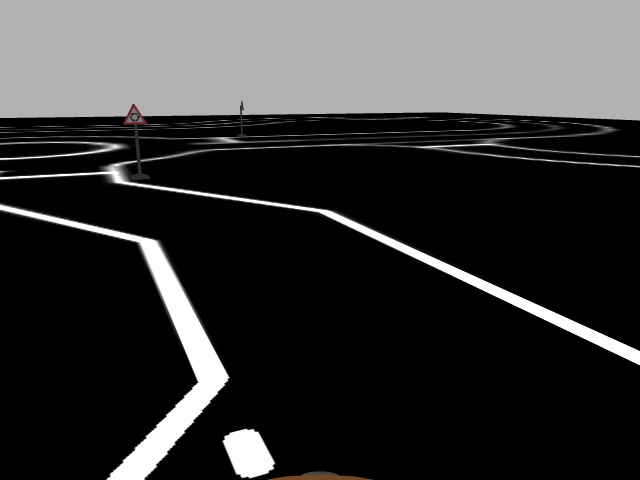roundabout: (121, 103, 148, 126)
